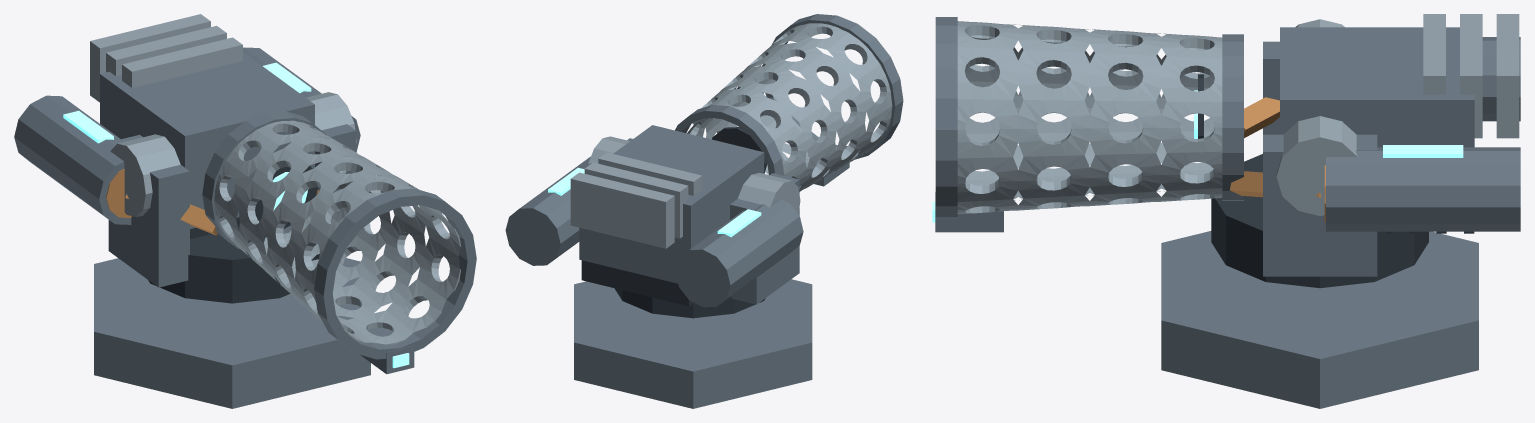
File: plasma_t2.glb
3 views of the same model, side by side, from view 1: azimuth 30°, elevation 25°; view 2: azimuth 150°, elevation 25°; view 3: azimuth 270°, elevation 25° (orthographic). The views are drawn at different scales.
Visible parts, largest first — view 1: PERFORATED_NOZZLE, Ground plinth, Breech, Nozzle reinforcing lip (×2), Pressure reservoir (×2), Capacitor (×3), Cradle (×2), Bearing, Elevation motor (×2), Tank charge window (×2), Pilot housing, Reservoir endcap (+2 smaller); view 2: Ground plinth, PERFORATED_NOZZLE, Pressure reservoir (×2), Breech, Capacitor (×3), Nozzle reinforcing lip (×2), Heat exchanger fin, Elevation motor (×2), Cradle, Bearing, Tank charge window (×2), Recessed combustion core; view 3: PERFORATED_NOZZLE, Ground plinth, Breech, Pressure reservoir (×2), Cradle (×2), Nozzle reinforcing lip (×2), Capacitor (×3), Bearing, Elevation motor, Insulated feed pipe armor (×2), Pilot housing, Tank charge window.
Boxes of the visible parts, x1,y1,x2,y2 form: PERFORATED_NOZZLE: [214, 120, 460, 345]; Ground plinth: [94, 258, 370, 408]; Breech: [100, 52, 314, 228]; Nozzle reinforcing lip (×2): [202, 111, 476, 359]; Pressure reservoir (×2): [14, 47, 360, 224]; Capacitor (×3): [90, 14, 242, 102]; Cradle (×2): [108, 95, 356, 287]; Bearing: [148, 227, 319, 303]; Elevation motor (×2): [110, 92, 356, 217]; Tank charge window (×2): [63, 62, 311, 143]; Pilot housing: [360, 327, 414, 374]; Reservoir endcap: [106, 169, 131, 217]; Ground plinth: [574, 279, 812, 408]; PERFORATED_NOZZLE: [687, 23, 892, 191]; Pressure reservoir (×2): [505, 156, 803, 307]; Breech: [579, 125, 764, 283]; Capacitor (×3): [570, 152, 702, 248]; Nozzle reinforcing lip (×2): [675, 14, 903, 175]; Heat exchanger fin: [581, 260, 692, 306]; Elevation motor (×2): [588, 136, 800, 214]; Cradle: [730, 173, 799, 304]; Bearing: [614, 288, 765, 318]; Tank charge window (×2): [548, 167, 761, 237]; Recessed combustion core: [712, 127, 766, 173]; PERFORATED_NOZZLE: [957, 21, 1222, 214]; Ground plinth: [1161, 231, 1478, 408]; Breech: [1280, 27, 1474, 147]; Pressure reservoir (×2): [1326, 37, 1520, 231]; Cradle (×2): [1263, 41, 1377, 276]; Nozzle reinforcing lip (×2): [935, 17, 1243, 218]; Capacitor (×3): [1423, 14, 1519, 138]; Bearing: [1211, 154, 1428, 288]; Elevation motor: [1276, 116, 1357, 215]; Insulated feed pipe armor (×2): [1230, 97, 1321, 197]; Pilot housing: [935, 192, 1003, 232]; Tank charge window: [1383, 145, 1463, 157].
Size of the model in its own units: 1.6 by 1.47 by 2.57.
